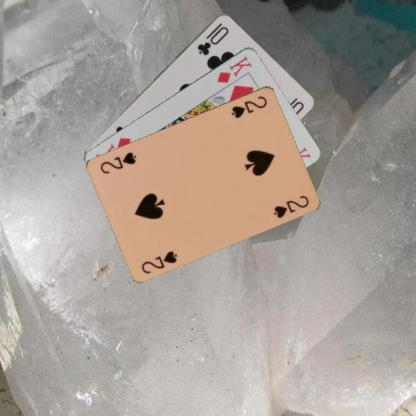10c: (195, 19, 230, 56)
2s: (228, 92, 269, 119), (139, 248, 179, 274)
Kd: (214, 52, 253, 84)
